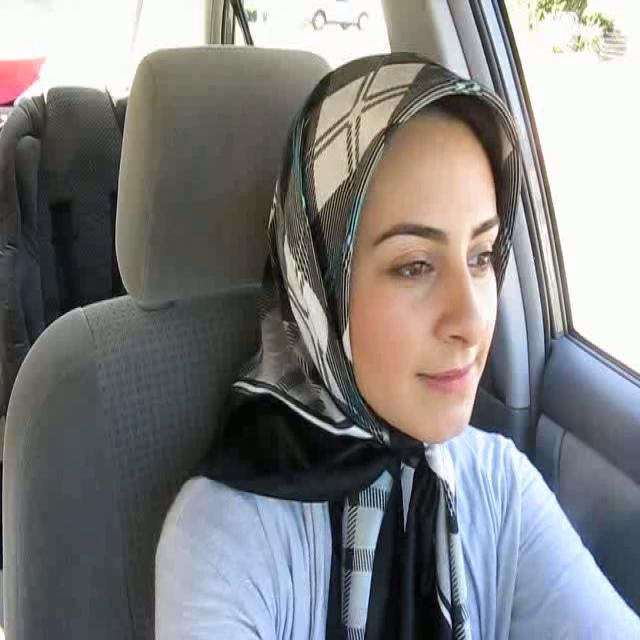close: (416, 354, 483, 398)
